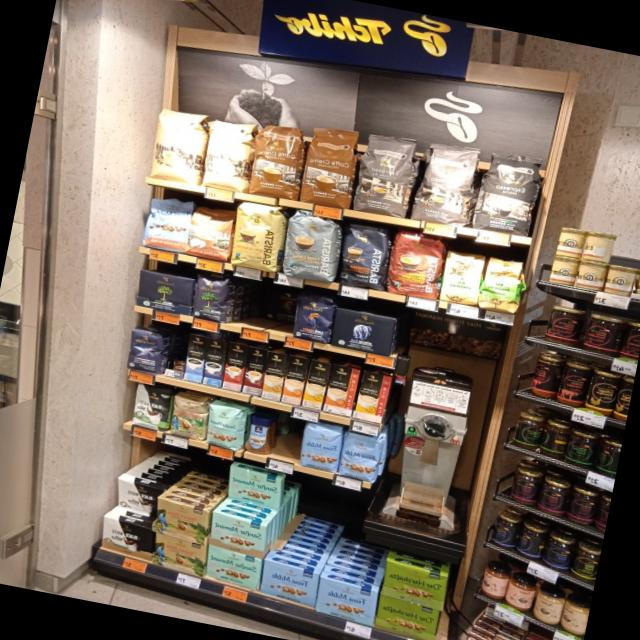AB Gemahlen: (328, 306, 398, 356)
Athiopien Bohne: (476, 253, 526, 316)
Athiopien Gemahlen: (438, 248, 487, 308)
BM Bohne: (190, 270, 232, 323)
BM Gemahlen: (134, 268, 195, 316)
BW Bohne: (128, 382, 174, 432)
BW Gemahlen: (99, 513, 156, 563)
Barista CB: (226, 198, 288, 273)
Barista CC: (280, 211, 344, 284)
Barista Espresso: (337, 218, 392, 290)
Barista Kolumbien: (383, 230, 448, 302)
C Fino Bohne: (124, 326, 167, 375)
CC Mild: (145, 103, 211, 186), (200, 112, 258, 194)
CC Vollmundig: (183, 203, 236, 263)
CC Vollmundig 36 Pads: (297, 122, 362, 210), (245, 119, 308, 202)
Colombia BB Bohne: (168, 394, 210, 441)
Colombia BB Gemahlen: (151, 496, 211, 547), (150, 532, 207, 578)
Espresso Kraftig: (471, 146, 545, 240)
Espresso M Art: (409, 137, 482, 229), (350, 128, 421, 220)
FM 36 Pads: (140, 192, 194, 255)
FM Bohne: (297, 420, 343, 474), (334, 430, 380, 483)
FM Gemahlen: (314, 573, 379, 629), (258, 557, 320, 609)
FM Instant: (242, 412, 276, 457)
Herzhatfe Mundig: (380, 561, 450, 610), (373, 595, 440, 640)
LG Bohne: (290, 292, 336, 344)
SM Bohne: (203, 400, 247, 453)
SM Gemahlen: (207, 509, 267, 560), (203, 542, 262, 591), (227, 465, 282, 511)
Simo CCMild: (353, 371, 392, 424)
Simo CCMild bigpack: (302, 360, 331, 411)
Simo CCVollmundig: (323, 364, 361, 416)
Simo CCVollmundig bigpack: (281, 354, 310, 406)
Simo Decaff: (260, 351, 288, 402)
Simo Es Brazil: (222, 341, 250, 392)
Simo Es Caramel: (241, 346, 268, 396)
Simo Es Kraft: (201, 336, 225, 388)
Simo Es Vanilla: (183, 332, 207, 383)
